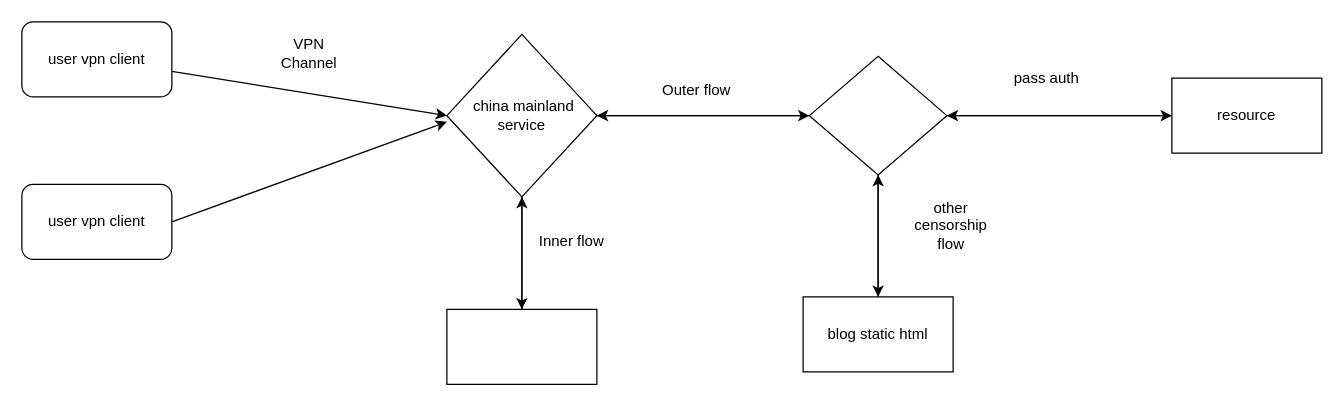
Image size: 1344x406. Some labels were removed from this diagram. The centre of each missing label's shape, as x and y in pixels:
"direct access" belongs at pixel 521 346.
"oversea service" belongs at pixel 877 115.
